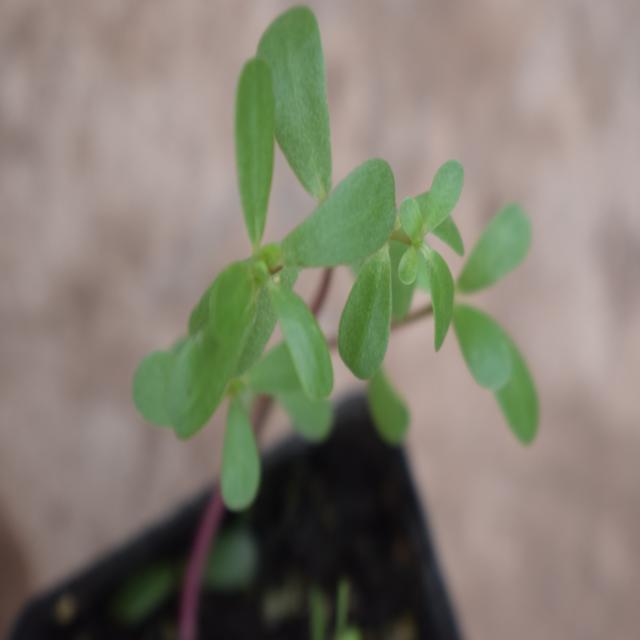purslane: (134, 31, 558, 512)
